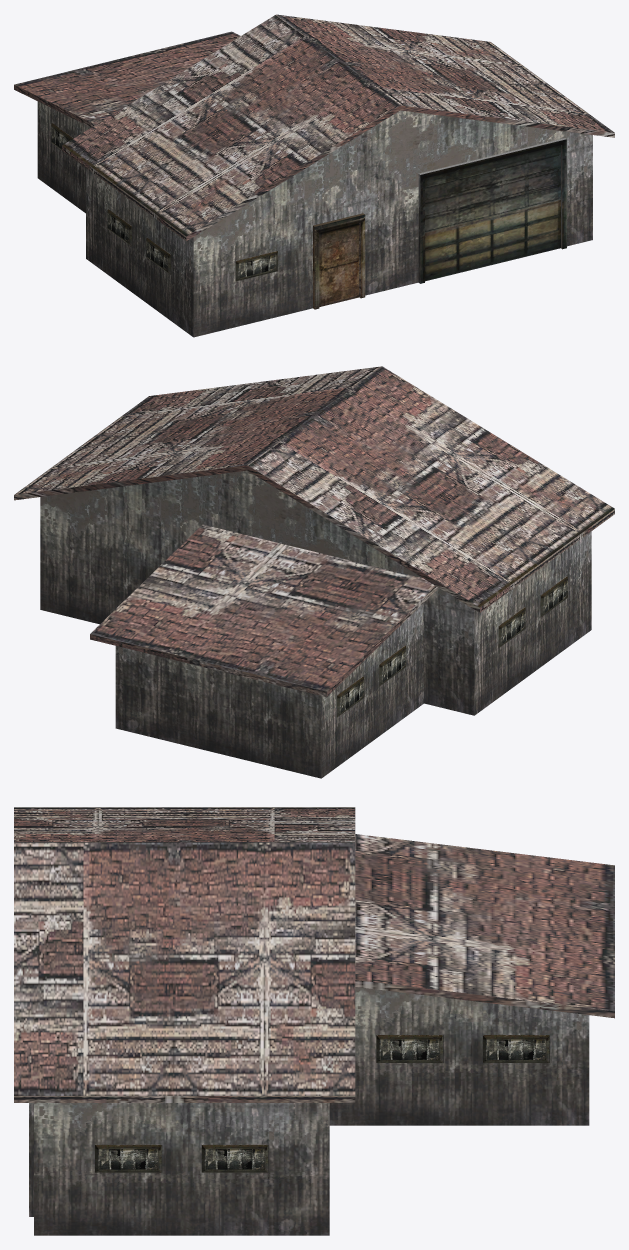
File: warehs10.glb
The picture shows the model from 3 angles, top to bottom: view 1: azimuth 30°, elevation 25°; view 2: azimuth 150°, elevation 25°; view 3: azimuth 270°, elevation 25°; orthographic projection. The views are drawn at different scales.
Visible parts, largest first — view 1: _warehs10; view 2: _warehs10; view 3: _warehs10.
Part boxes in pixels (box(x1,y1,x2,y2)): _warehs10: box(14, 14, 614, 337); _warehs10: box(14, 366, 614, 778); _warehs10: box(14, 807, 614, 1235).
Size of the model in its own units: 15.75 by 6.62 by 13.92.
Materials: 1 (1 with a texture image).
